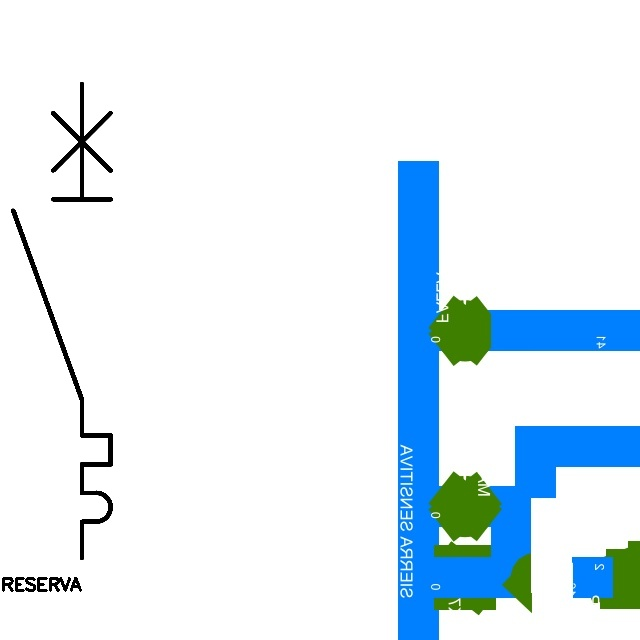interruptor_termomagnetico: (1, 72, 123, 570)
